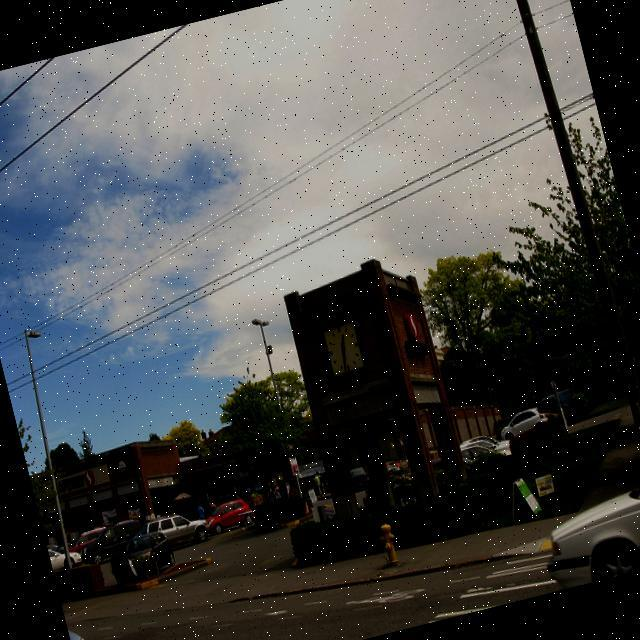fire_hydrant: (376, 521, 400, 566)
